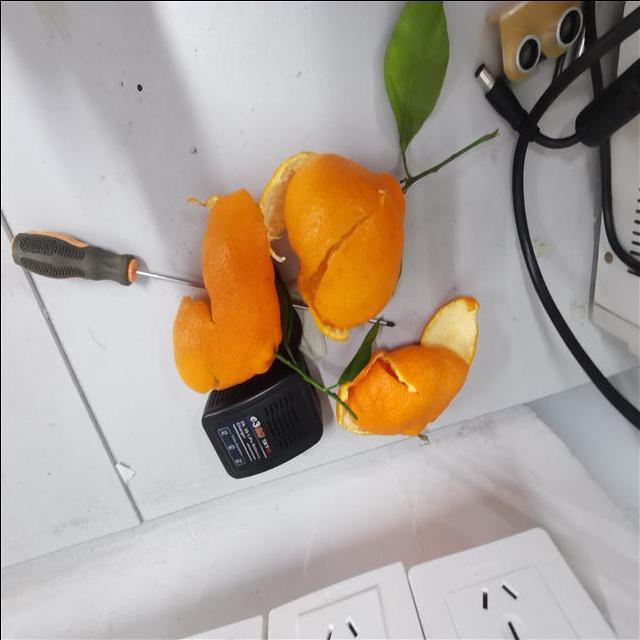orange peel: (273, 142, 406, 338), (170, 189, 286, 392), (334, 296, 483, 441)
